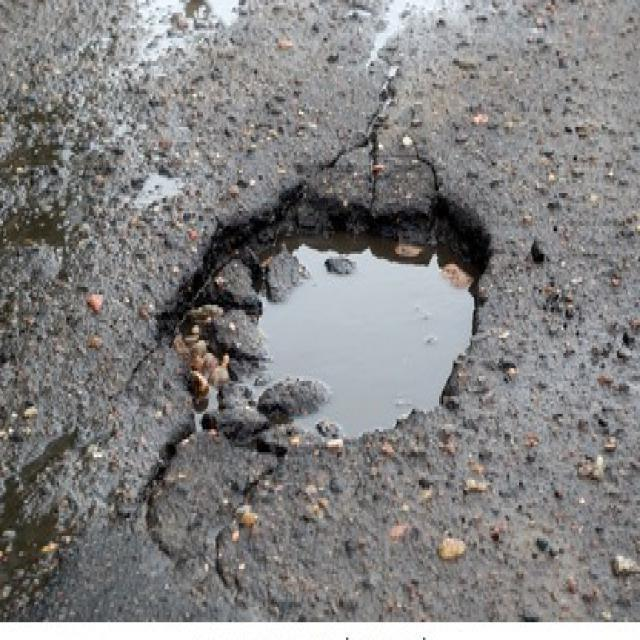Pothole: (155, 133, 492, 448)
